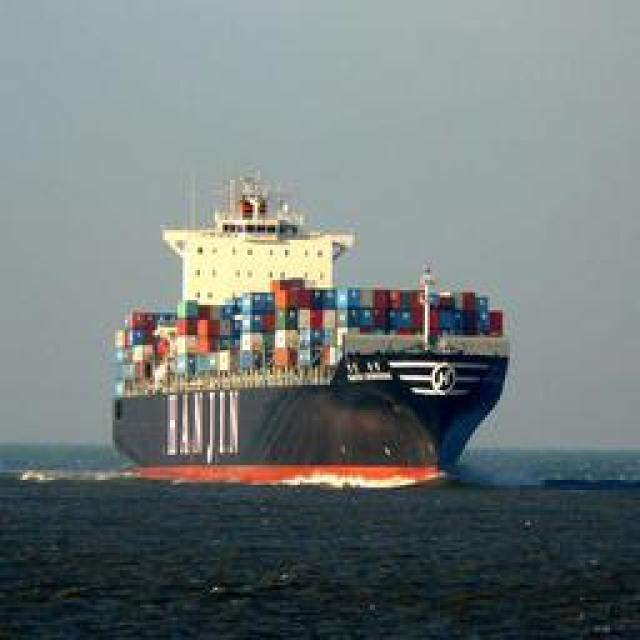CIV_Ship: (100, 158, 542, 478)
